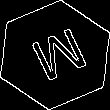M_SE: (21, 23, 89, 87)
